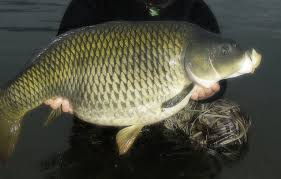carp: (1, 19, 263, 162)
